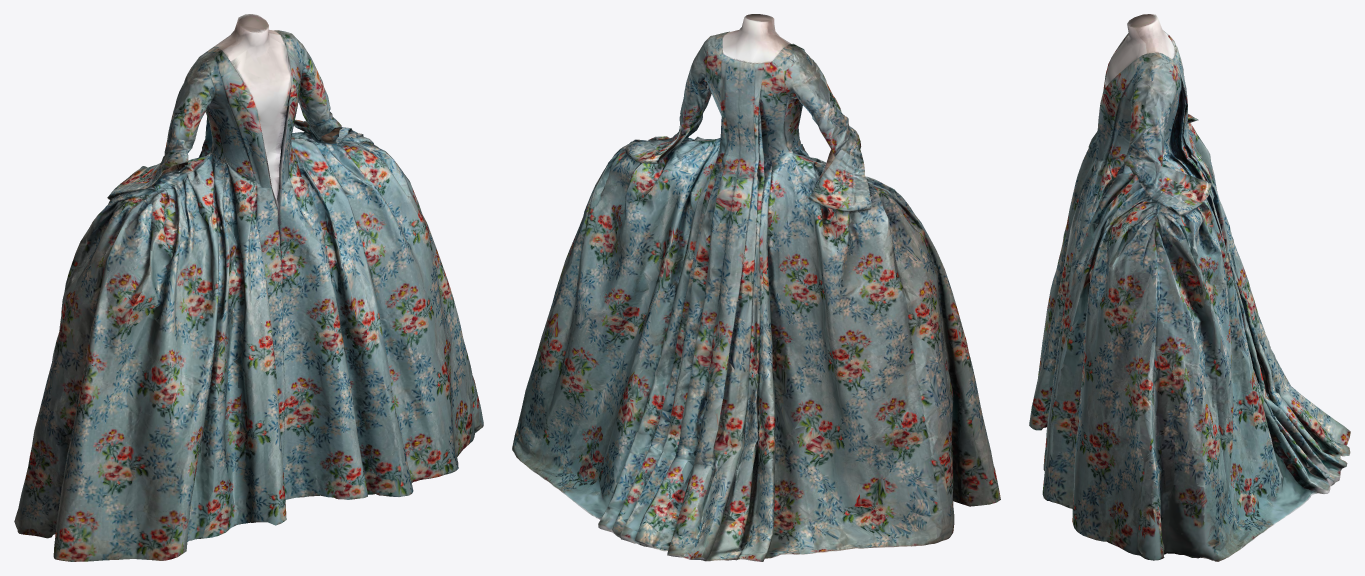
The model's file is robeFrancaise.glb.
3 renders of one model, left to right at view 1: azimuth 30°, elevation 25°; view 2: azimuth 150°, elevation 25°; view 3: azimuth 270°, elevation 25°, orthographic. The views are drawn at different scales.
Visible parts, largest first — view 1: robe-francaise; view 2: robe-francaise; view 3: robe-francaise.
Boxes of the visible parts, x1,y1,x2,y2 form: robe-francaise: (14, 14, 483, 561); robe-francaise: (512, 14, 1000, 561); robe-francaise: (1029, 14, 1350, 561).
Size of the model in its own units: 143 by 142 by 92.62.
Materials: 1 (1 with a texture image).
